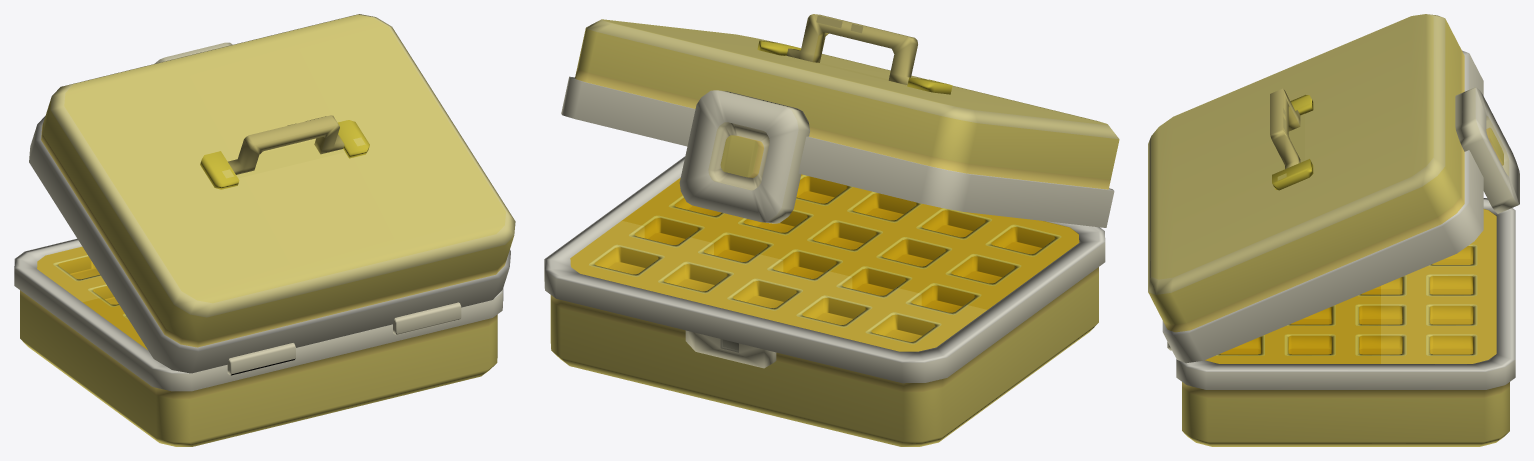
Rendered from G_pokemonbox.fbx.
The picture shows the model from 3 angles, left to right: view 1: azimuth 30°, elevation 25°; view 2: azimuth 150°, elevation 25°; view 3: azimuth 270°, elevation 25°; orthographic projection. The views are drawn at different scales.
Visible parts, largest first — view 1: G_pokemonbox; view 2: G_pokemonbox; view 3: G_pokemonbox.
Boxes of the visible parts, left/top/right/bottom form: G_pokemonbox: left=14, top=14, right=515, bottom=446; G_pokemonbox: left=544, top=14, right=1119, bottom=446; G_pokemonbox: left=1148, top=14, right=1519, bottom=446.
Bounding box in the file's own units: 8.73 × 6.5 × 7.89.
Materials: 1 (1 with a texture image).
